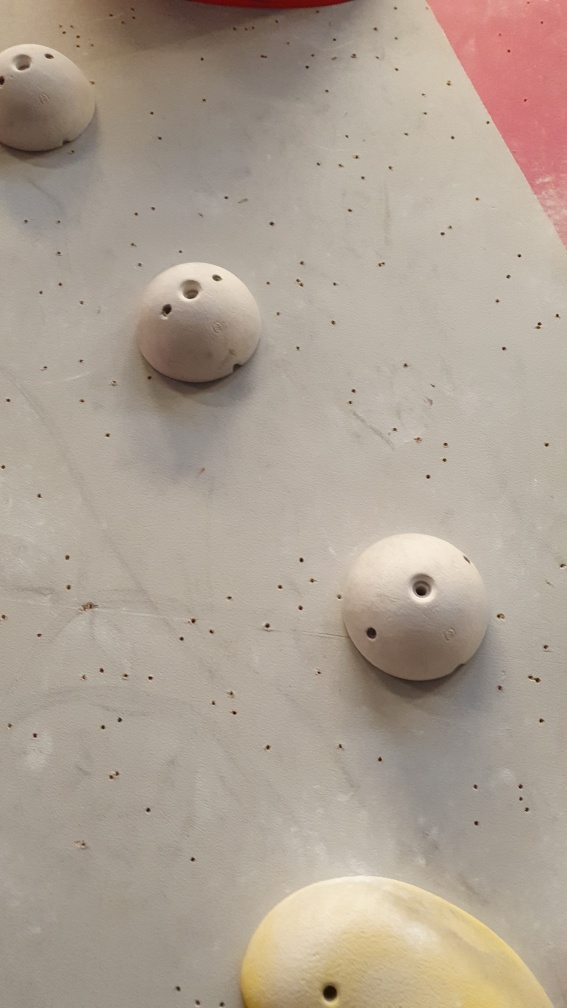Sloper: (346, 532, 495, 686), (134, 256, 263, 387), (1, 41, 98, 160)
